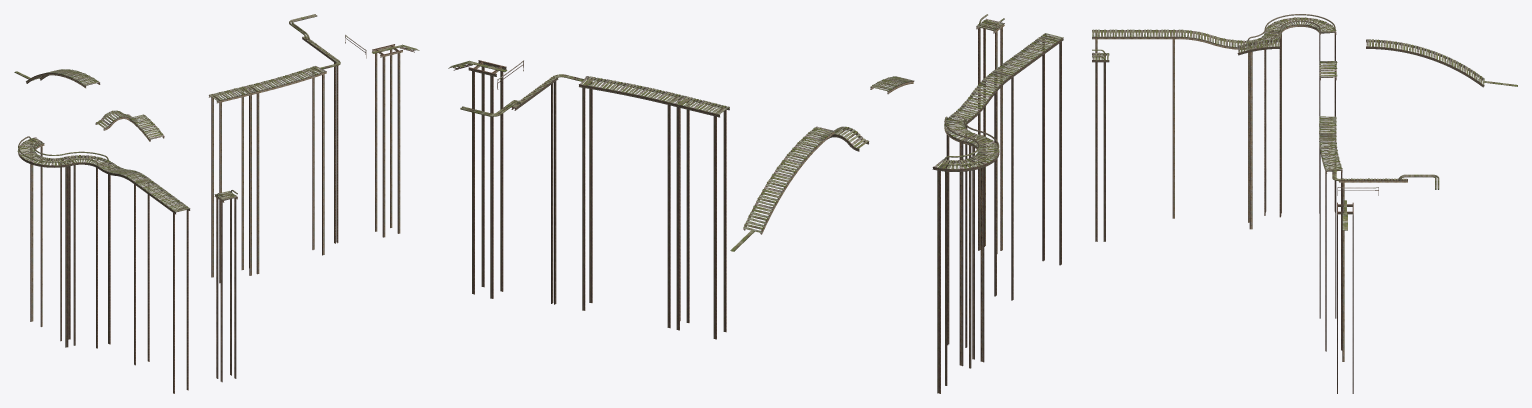
3 renders of one model, left to right at view 1: azimuth 30°, elevation 25°; view 2: azimuth 150°, elevation 25°; view 3: azimuth 270°, elevation 25°, orthographic. The views are drawn at different scales.
Visible parts, largest first — view 1: Ramp.012, Ramp..001, Ramp.006, Ramp.016, Ramp., Ramp.013, Ramp.018, Ramp.007, Ramp.023, Ramp.021; view 2: Ramp.012, Ramp., Ramp..001, Ramp.016, Ramp.006, Ramp.013, Ramp.023, Ramp.018, Ramp.007, Ramp.014, Ramp.015; view 3: Ramp.013, Ramp..001, Ramp.012, Ramp.016, Ramp.018, Ramp.023, Ramp.007, Ramp.006, Ramp.021.
Part boxes in pixels (left/top/right/bottom): Ramp.012: left=17, top=137, right=71, bottom=347; Ramp..001: left=246, top=66, right=326, bottom=274; Ramp.006: left=372, top=44, right=402, bottom=237; Ramp.016: left=132, top=177, right=190, bottom=393; Ramp.: left=209, top=86, right=254, bottom=283; Ramp.013: left=64, top=155, right=112, bottom=348; Ramp.018: left=214, top=191, right=237, bottom=382; Ramp.007: left=302, top=36, right=339, bottom=243; Ramp.023: left=26, top=69, right=100, bottom=88; Ramp.021: left=129, top=114, right=164, bottom=141; Ramp.012: left=932, top=134, right=999, bottom=393; Ramp.: left=673, top=96, right=729, bottom=339; Ramp..001: left=579, top=76, right=683, bottom=328; Ramp.016: left=992, top=33, right=1063, bottom=300; Ramp.006: left=468, top=60, right=506, bottom=298; Ramp.013: left=944, top=116, right=976, bottom=366; Ramp.023: left=743, top=126, right=834, bottom=234; Ramp.018: left=976, top=18, right=1004, bottom=253; Ramp.007: left=511, top=75, right=558, bottom=304; Ramp.014: left=950, top=94, right=989, bottom=122; Ramp.015: left=971, top=72, right=1009, bottom=100; Ramp.013: left=1245, top=32, right=1281, bottom=229; Ramp..001: left=1319, top=134, right=1342, bottom=351; Ramp.012: left=1265, top=17, right=1336, bottom=213; Ramp.016: left=1092, top=29, right=1178, bottom=218; Ramp.018: left=1092, top=52, right=1109, bottom=241; Ramp.023: left=1366, top=39, right=1484, bottom=87; Ramp.007: left=1339, top=178, right=1407, bottom=361; Ramp.006: left=1337, top=202, right=1353, bottom=393; Ramp.021: left=1237, top=39, right=1279, bottom=55.
Bounding box in the file's own units: 5570 × 2676 × 4945.
